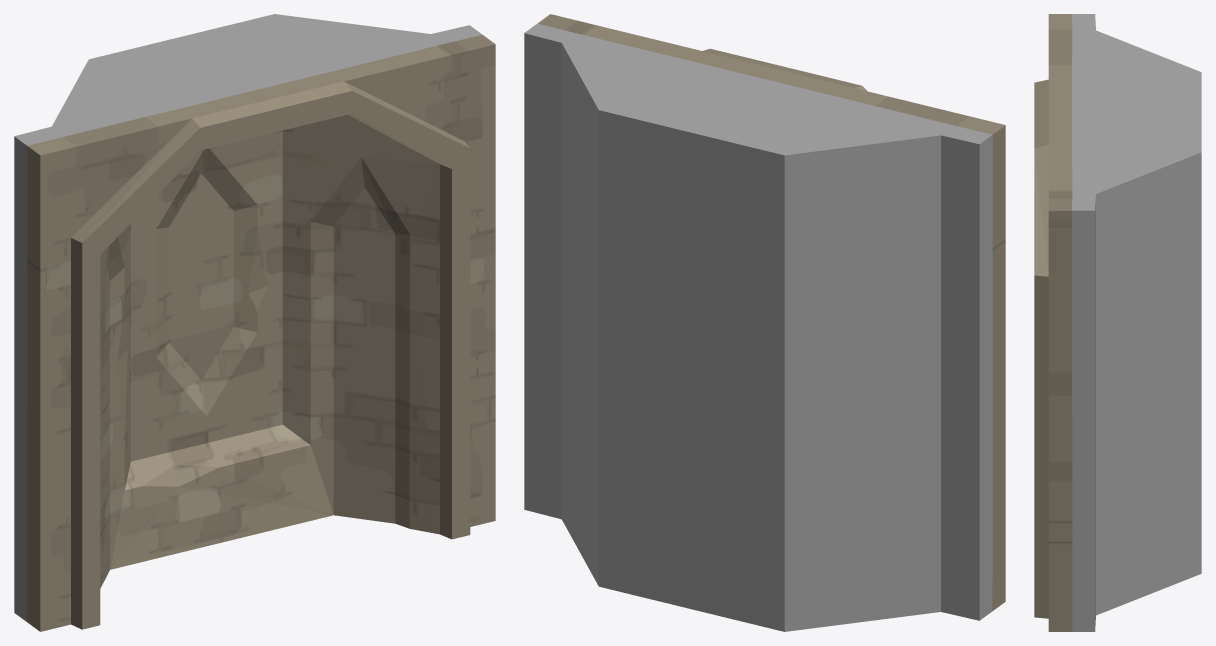
File: SM_Bld_Castle_Wall_Alcove_01.fbx
The picture shows the model from 3 angles, left to right: view 1: azimuth 30°, elevation 25°; view 2: azimuth 150°, elevation 25°; view 3: azimuth 270°, elevation 25°; orthographic projection. The views are drawn at different scales.
Parts seen in each view (by area): view 1: SM_Bld_Castle_Wall_Alcove_01; view 2: SM_Bld_Castle_Wall_Alcove_01; view 3: SM_Bld_Castle_Wall_Alcove_01.
Part boxes in pixels (box(x1,y1,x2,y2)): SM_Bld_Castle_Wall_Alcove_01: box(14, 14, 495, 631); SM_Bld_Castle_Wall_Alcove_01: box(524, 14, 1005, 631); SM_Bld_Castle_Wall_Alcove_01: box(1034, 14, 1201, 631).
Size of the model in its own units: 500 by 500 by 180.
